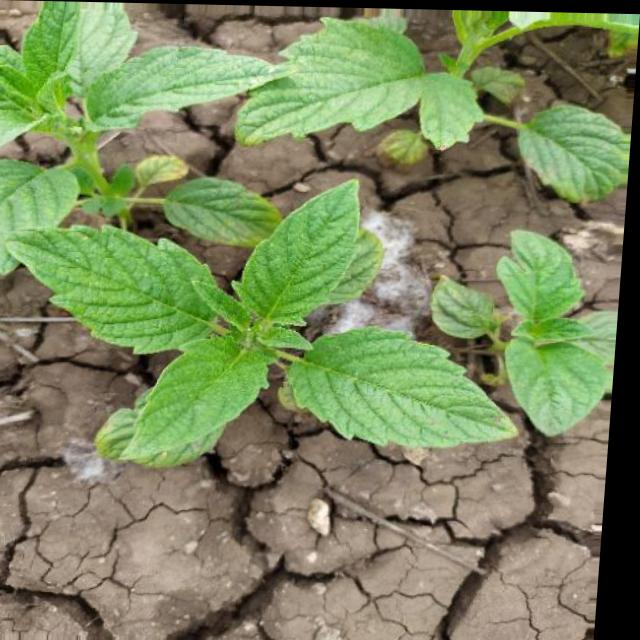crop: (1, 163, 553, 495), (0, 2, 320, 302), (238, 11, 636, 213)
